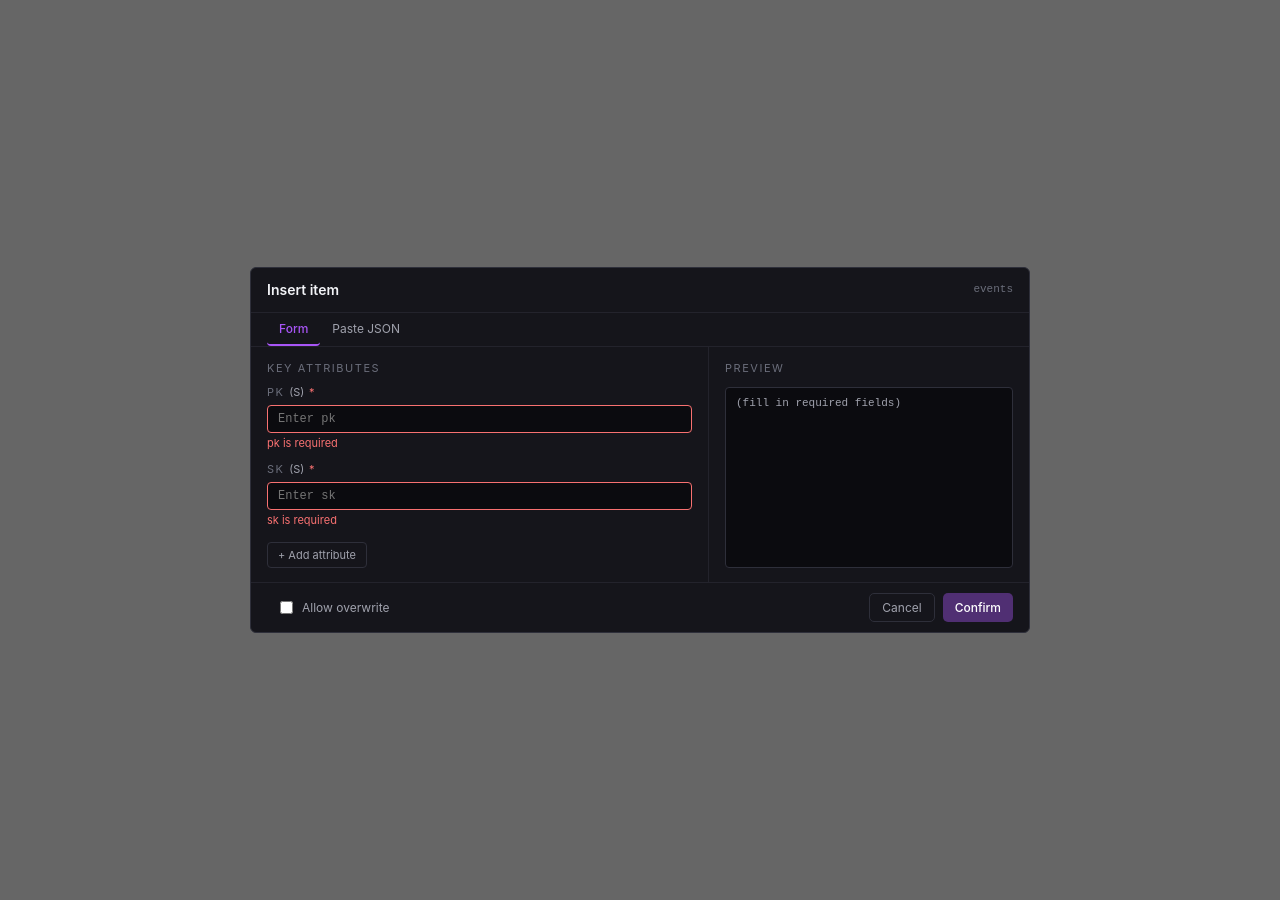
Scenario: InsertModal — form validation › Confirm enabled after filling key fields
The image size is (1280, 900).
Type "user-1" into the field with test id "key-input-pk".
click(480, 419); type("user-1")  # box [267, 405, 692, 433]
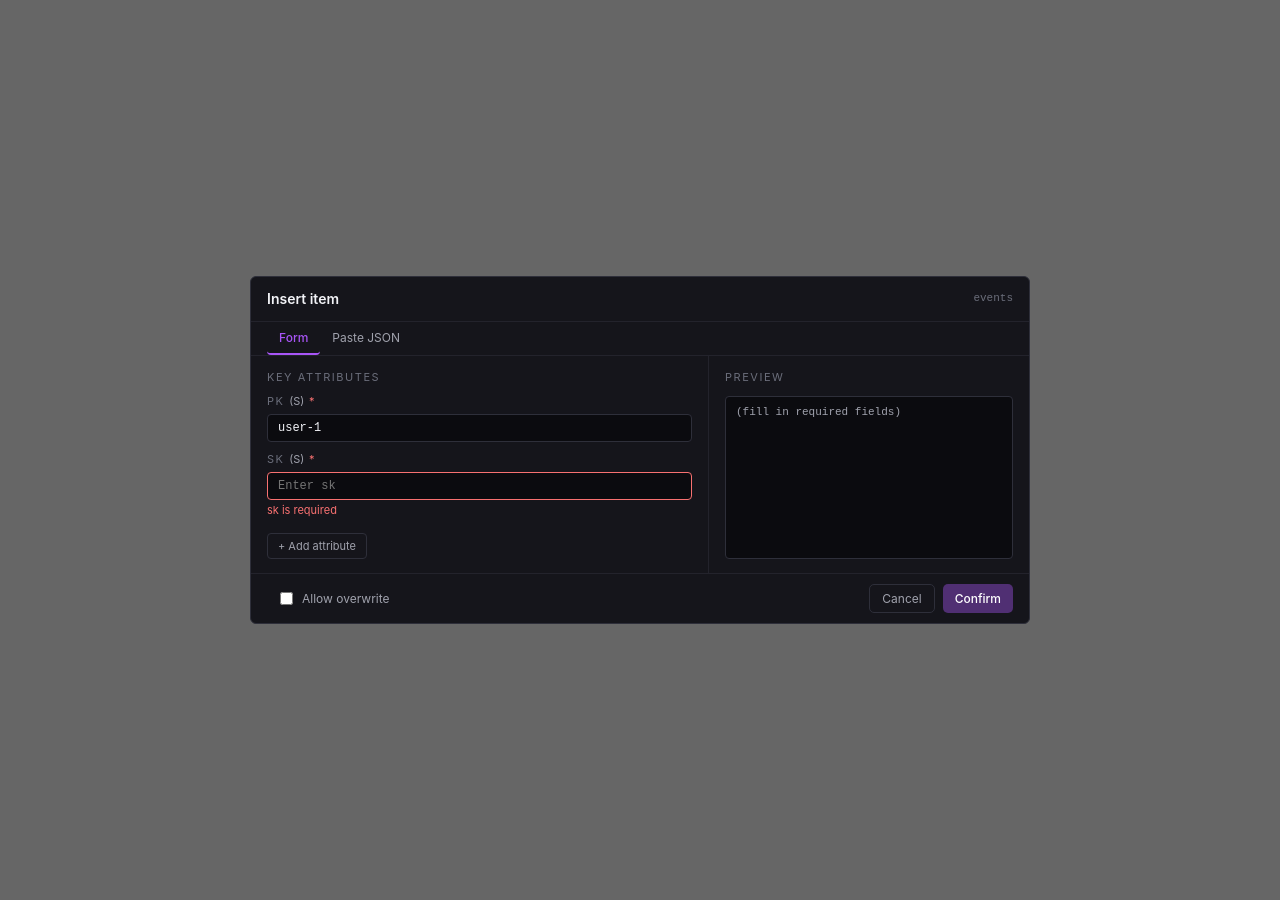
Type "evt-1" into the field with test id "key-input-sk".
click(480, 486); type("evt-1")  # box [267, 472, 692, 500]
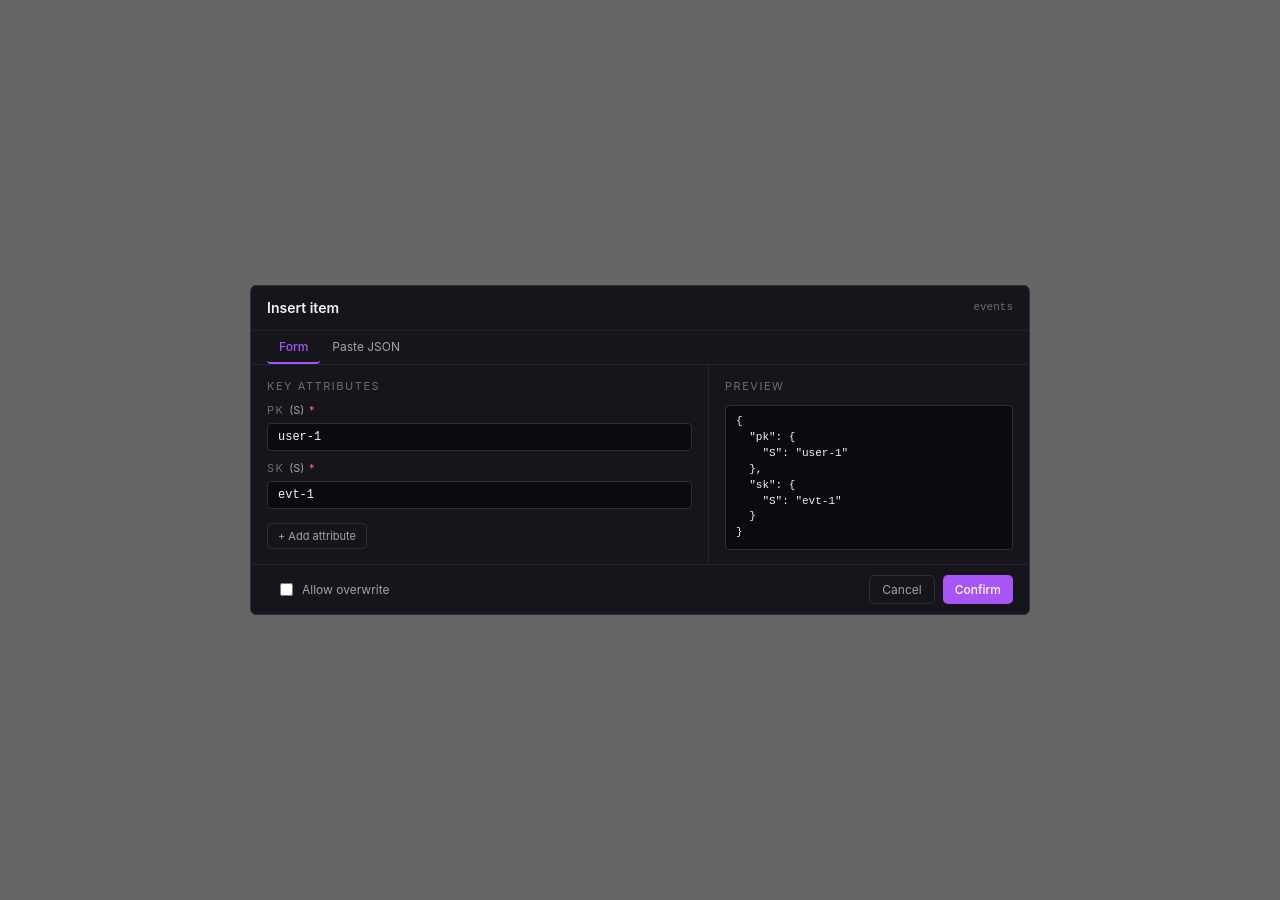
Check: the button with test id "insert-confirm-btn" is enabled, box [943, 575, 1013, 604]
